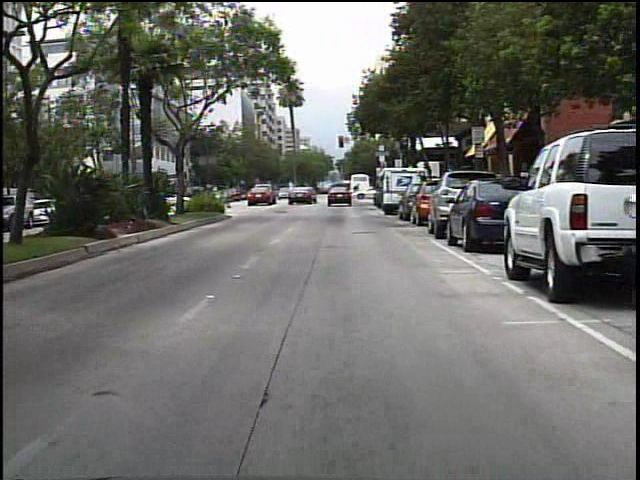person: (349, 181, 365, 202), (301, 184, 314, 205)
